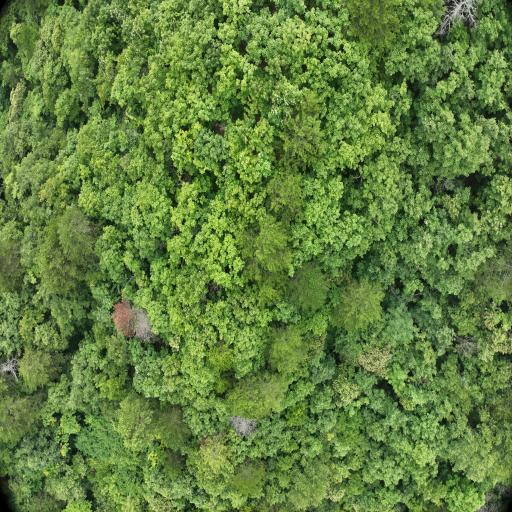dead-tree: (452, 2, 474, 18), (230, 418, 252, 432), (138, 316, 148, 338), (4, 363, 16, 373)
sick-tree: (118, 307, 130, 336)
